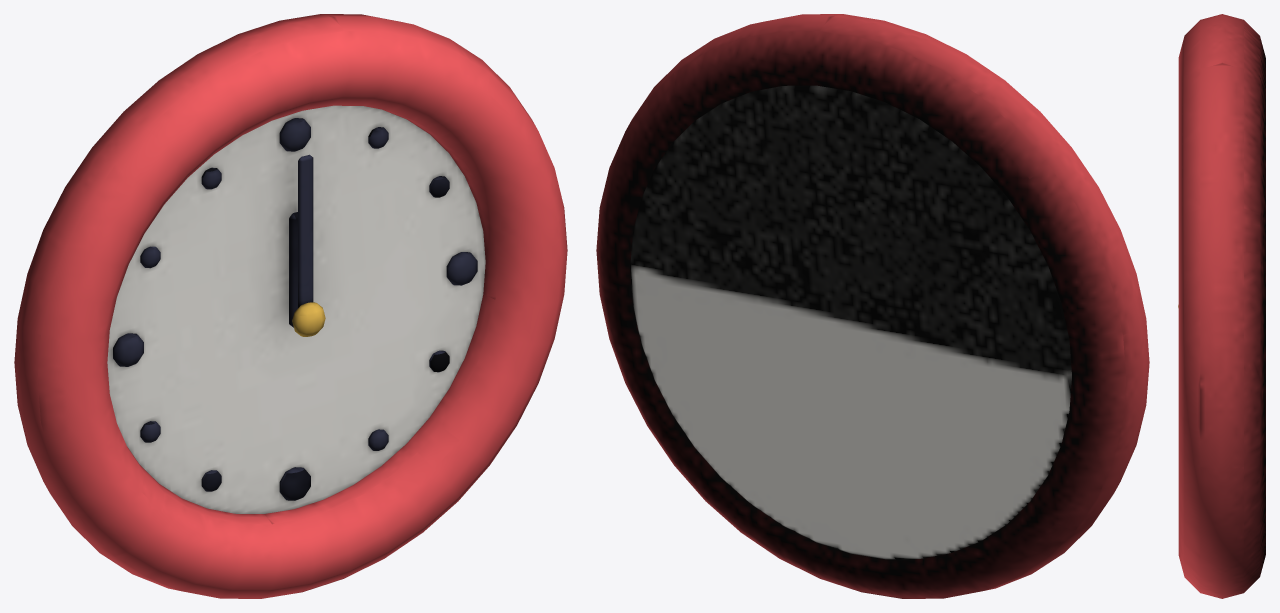
Rendered from wall_clock.glb.
3 views of the same model, side by side, from view 1: azimuth 30°, elevation 25°; view 2: azimuth 150°, elevation 25°; view 3: azimuth 270°, elevation 25° (orthographic). The views are drawn at different scales.
Visible parts, largest first — view 1: wall_clock, MinuteHand, HourHand; view 2: wall_clock; view 3: wall_clock.
Boxes of the visible parts, box(x1,y1,x2,y2) form: wall_clock: box(14, 14, 567, 598); MinuteHand: box(298, 154, 313, 307); HourHand: box(289, 212, 297, 327); wall_clock: box(596, 14, 1149, 598); wall_clock: box(1178, 14, 1265, 598).
Bounding box in the file's own units: 0.47 × 0.47 × 0.0704.
Materials: 5 (5 with a texture image).
